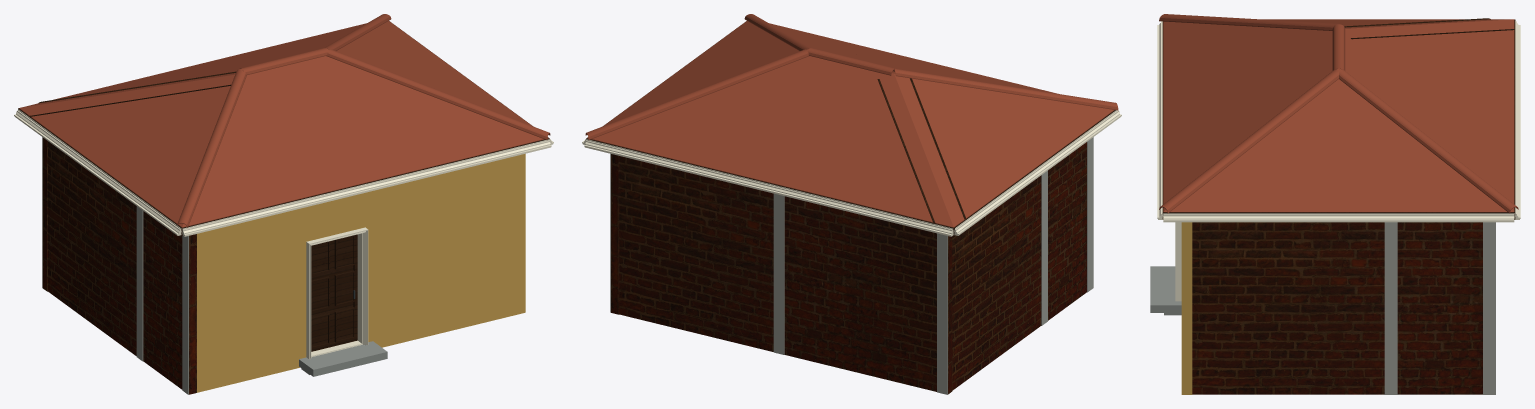
Rendered from building.glb.
The picture shows the model from 3 angles, left to right: view 1: azimuth 30°, elevation 25°; view 2: azimuth 150°, elevation 25°; view 3: azimuth 270°, elevation 25°; orthographic projection. The views are drawn at different scales.
Parts seen in each view (by area): view 1: house:0/edge0/z0/house:0/edge0/z0/wall_0_0, house:0/edge3/z0/house:0/edge3/z0/wall_0_0, roof_assembly/cubierta/roof_edge_cornice#0003, roof_assembly/cubierta/roof_edge_cornice#0001, site/entrance/0/entrance_step#0002, house:0/edge3/z0/house:0/edge3/z0/column_2_0, house:0/edge3/z0/house:0/edge3/z0/column_1_0, house:0/edge0/z0/opening_u2.80_v0.12/door_panel_back#0001, house:0/edge2/z0/house:0/edge2/z0/wall_0_0, house:0/edge0/z0/opening_u2.80_v0.12/door_reveal#0001, house:0/edge0/z0/opening_u2.80_v0.12/door_moulding#0028, house:0/edge0/z0/opening_u2.80_v0.12/door_leaf_frame#0001 (+6 smaller); view 2: house:0/edge2/z0/house:0/edge2/z0/wall_0_0, house:0/edge3/z0/house:0/edge3/z0/wall_0_0, roof_assembly/cubierta/roof_edge_cornice#0006, house:0/edge2/z0/house:0/edge2/z0/column_2_0, roof_assembly/cubierta/roof_edge_cornice#0001, house:0/edge2/z0/house:0/edge2/z0/column_1_0, house:0/edge1/z0/house:0/edge1/z0/wall_0_0, house:0/edge3/z0/house:0/edge3/z0/column_1_0, house:0/edge3/z0/house:0/edge3/z0/column_2_0, roof_assembly/cubierta/roof_fascia#0006; view 3: house:0/edge1/z0/house:0/edge1/z0/wall_0_0, roof_assembly/cubierta/roof_edge_cornice#0004, house:0/edge1/z0/house:0/edge1/z0/column_2_0, house:0/edge1/z0/house:0/edge1/z0/column_1_0, house:0/edge0/z0/house:0/edge0/z0/wall_0_0, site/entrance/0/entrance_step#0002, roof_assembly/cubierta/roof_edge_cornice#0006, roof_assembly/cubierta/roof_edge_cornice#0003, roof_assembly/cubierta/roof_fascia#0004, house:0/edge0/z0/opening_u2.80_v0.12/door_moulding#0028, roof_assembly/cubierta/roof_fascia#0006, roof_assembly/cubierta/roof_fascia#0003.
Boxes of the visible parts, x1=… form: house:0/edge0/z0/house:0/edge0/z0/wall_0_0: x1=197, y1=153, x2=525, y2=392; house:0/edge3/z0/house:0/edge3/z0/wall_0_0: x1=48, y1=141, x2=196, y2=394; roof_assembly/cubierta/roof_edge_cornice#0003: x1=182, y1=139, x2=551, y2=236; roof_assembly/cubierta/roof_edge_cornice#0001: x1=14, y1=109, x2=181, y2=235; site/entrance/0/entrance_step#0002: x1=299, y1=341, x2=387, y2=376; house:0/edge3/z0/house:0/edge3/z0/column_2_0: x1=136, y1=206, x2=143, y2=361; house:0/edge3/z0/house:0/edge3/z0/column_1_0: x1=182, y1=236, x2=188, y2=394; house:0/edge0/z0/opening_u2.80_v0.12/door_panel_back#0001: x1=311, y1=240, x2=353, y2=342; house:0/edge2/z0/house:0/edge2/z0/wall_0_0: x1=42, y1=137, x2=47, y2=291; house:0/edge0/z0/opening_u2.80_v0.12/door_reveal#0001: x1=306, y1=227, x2=365, y2=356; house:0/edge0/z0/opening_u2.80_v0.12/door_moulding#0028: x1=306, y1=227, x2=368, y2=359; house:0/edge0/z0/opening_u2.80_v0.12/door_leaf_frame#0001: x1=311, y1=234, x2=357, y2=351; house:0/edge2/z0/house:0/edge2/z0/wall_0_0: x1=619, y1=156, x2=952, y2=394; house:0/edge3/z0/house:0/edge3/z0/wall_0_0: x1=952, y1=142, x2=1086, y2=390; roof_assembly/cubierta/roof_edge_cornice#0006: x1=584, y1=139, x2=953, y2=236; house:0/edge2/z0/house:0/edge2/z0/column_2_0: x1=773, y1=193, x2=784, y2=354; roof_assembly/cubierta/roof_edge_cornice#0001: x1=953, y1=110, x2=1121, y2=235; house:0/edge2/z0/house:0/edge2/z0/column_1_0: x1=937, y1=233, x2=947, y2=394; house:0/edge1/z0/house:0/edge1/z0/wall_0_0: x1=611, y1=154, x2=619, y2=314; house:0/edge3/z0/house:0/edge3/z0/column_1_0: x1=1087, y1=137, x2=1093, y2=292; house:0/edge3/z0/house:0/edge3/z0/column_2_0: x1=1041, y1=170, x2=1047, y2=325; roof_assembly/cubierta/roof_fascia#0006: x1=587, y1=138, x2=953, y2=233; house:0/edge1/z0/house:0/edge1/z0/wall_0_0: x1=1192, y1=222, x2=1482, y2=394; roof_assembly/cubierta/roof_edge_cornice#0004: x1=1163, y1=213, x2=1514, y2=222; house:0/edge1/z0/house:0/edge1/z0/column_2_0: x1=1384, y1=222, x2=1397, y2=394; house:0/edge1/z0/house:0/edge1/z0/column_1_0: x1=1483, y1=222, x2=1495, y2=394; house:0/edge0/z0/house:0/edge0/z0/wall_0_0: x1=1181, y1=222, x2=1192, y2=394; site/entrance/0/entrance_step#0002: x1=1150, y1=266, x2=1181, y2=312; roof_assembly/cubierta/roof_edge_cornice#0006: x1=1514, y1=20, x2=1520, y2=219; roof_assembly/cubierta/roof_edge_cornice#0003: x1=1157, y1=21, x2=1163, y2=219; roof_assembly/cubierta/roof_fascia#0004: x1=1163, y1=212, x2=1514, y2=213; house:0/edge0/z0/opening_u2.80_v0.12/door_moulding#0028: x1=1175, y1=222, x2=1181, y2=301; roof_assembly/cubierta/roof_fascia#0006: x1=1514, y1=20, x2=1515, y2=219; roof_assembly/cubierta/roof_fascia#0003: x1=1162, y1=21, x2=1163, y2=219.
Size of the model in its own units: 8.94 by 5.52 by 7.07.
9 materials, 2 textured.
